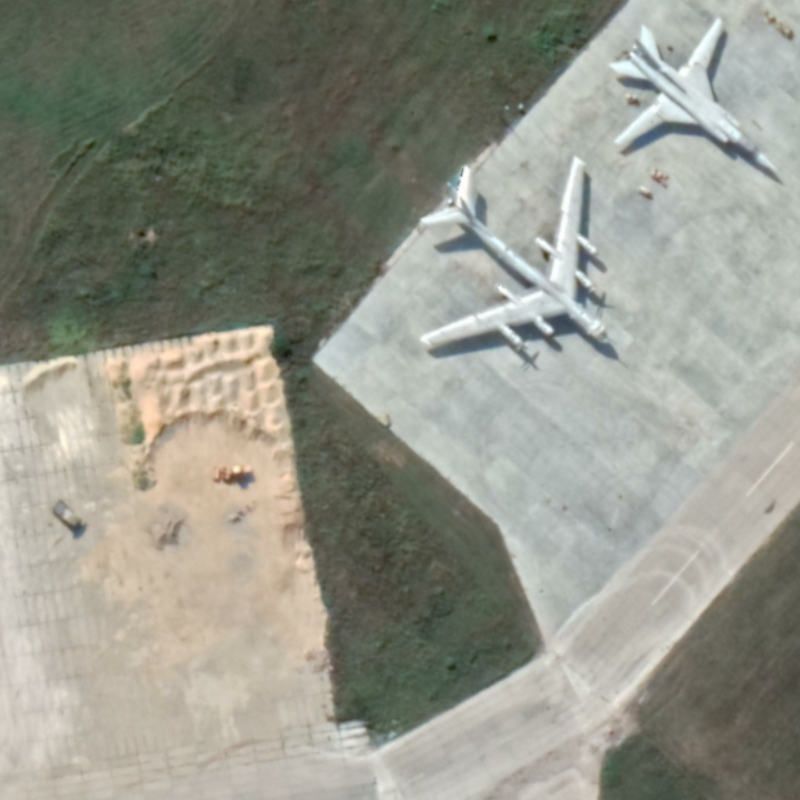A12: (605, 13, 781, 177)
A17: (414, 152, 615, 355)
